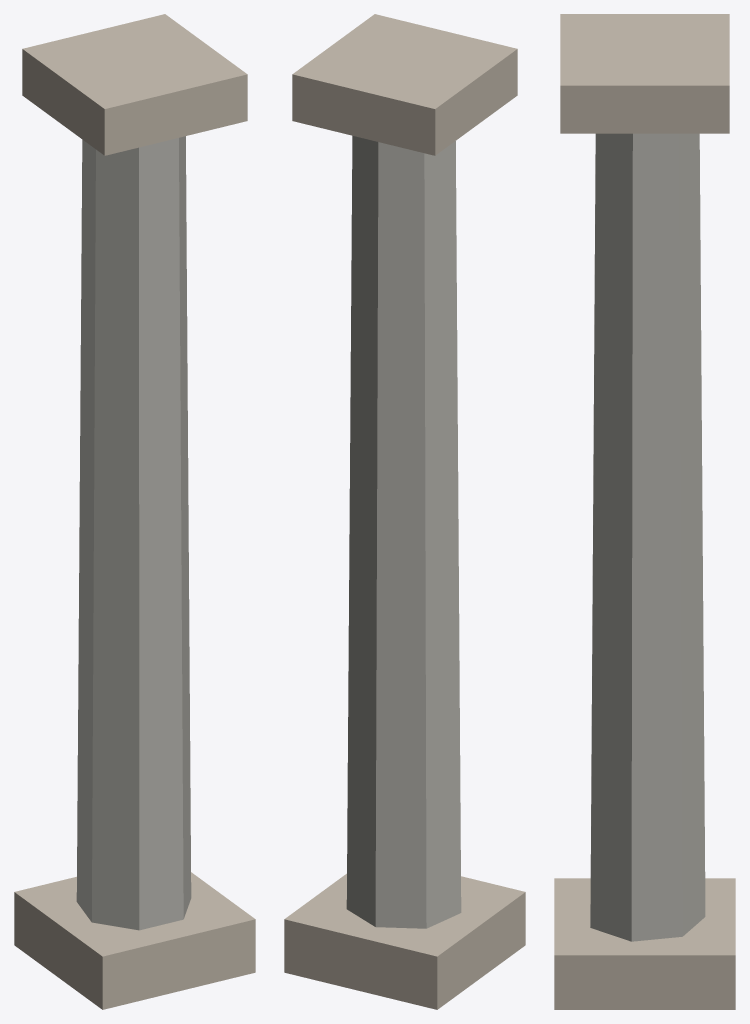
File: column_v03.glb
3 renders of one model, left to right at view 1: azimuth 30°, elevation 25°; view 2: azimuth 150°, elevation 25°; view 3: azimuth 270°, elevation 25°, orthographic. The views are drawn at different scales.
Parts seen in each view (by area): view 1: lod0; view 2: lod0; view 3: lod0.
Boxes of the visible parts, <box> form: lod0: <box>14,14,255,1009</box>; lod0: <box>284,14,525,1009</box>; lod0: <box>554,14,735,1009</box>.
Size of what is drawn, in the model's own units: 0.48 by 2.69 by 0.48.
